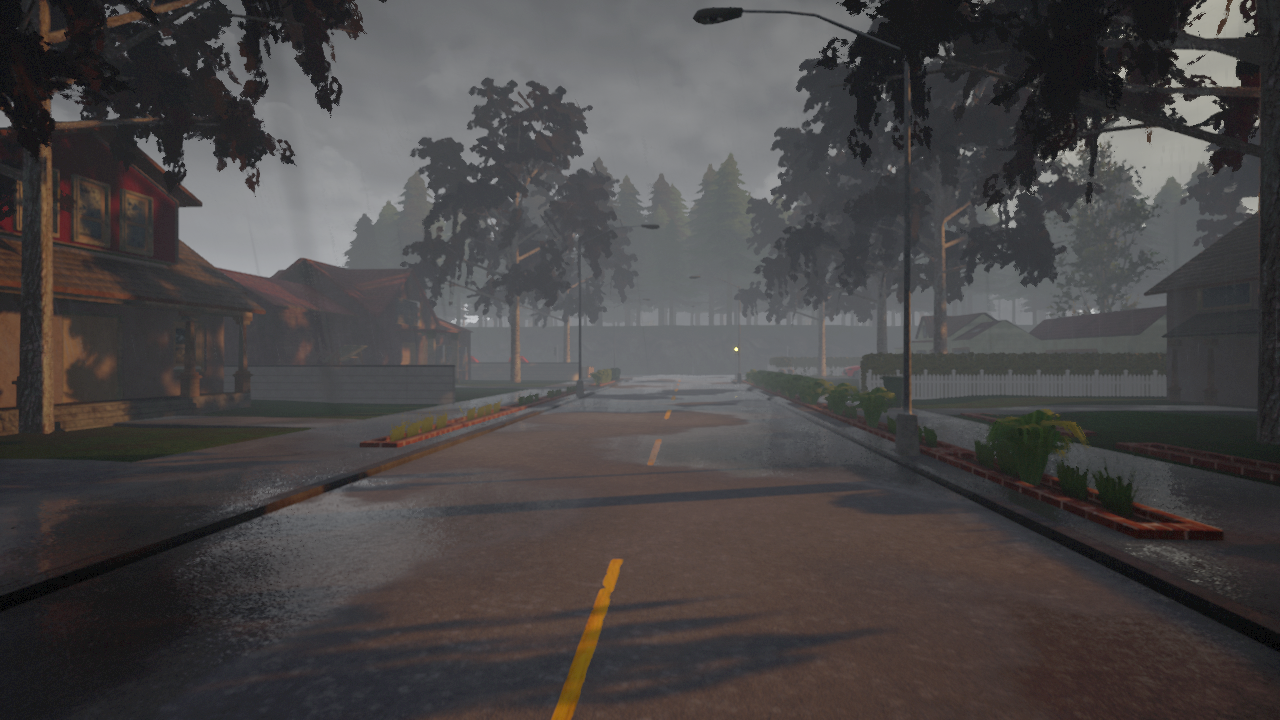yellow: (733, 341, 739, 355)
